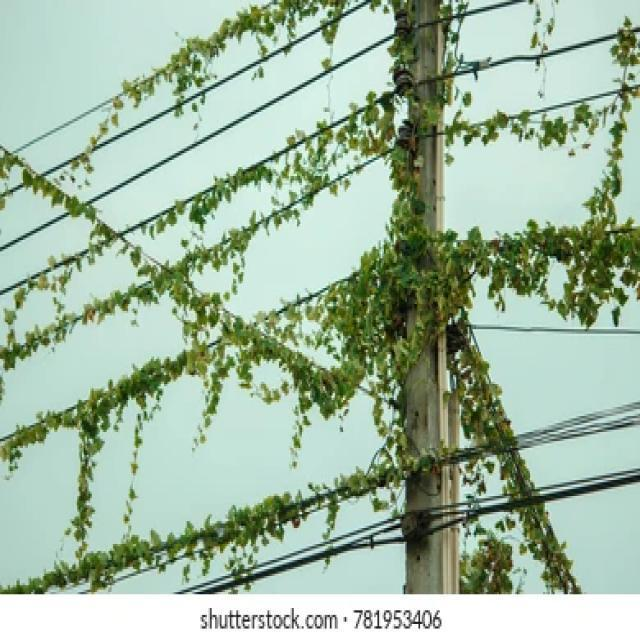critical vegetation: (70, 13, 640, 372)
